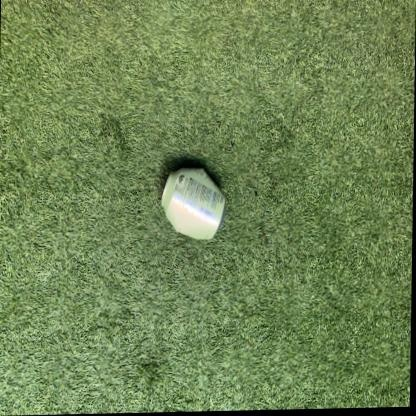trash: (161, 168, 224, 238)
